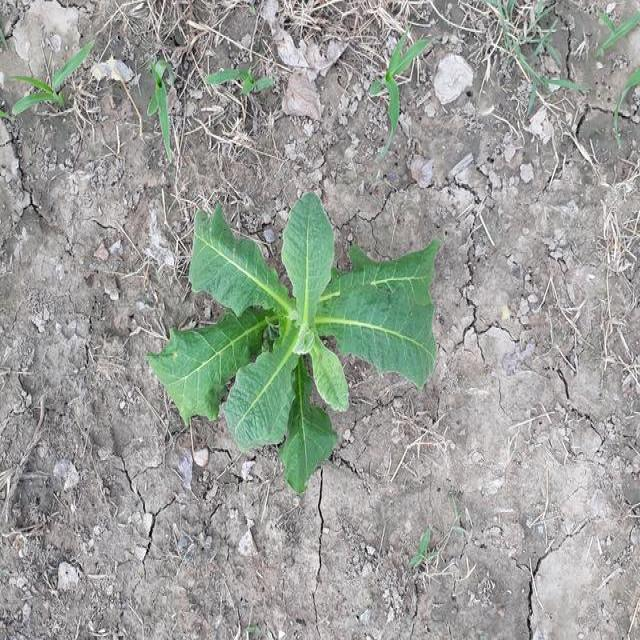crop: (175, 219, 436, 468)
